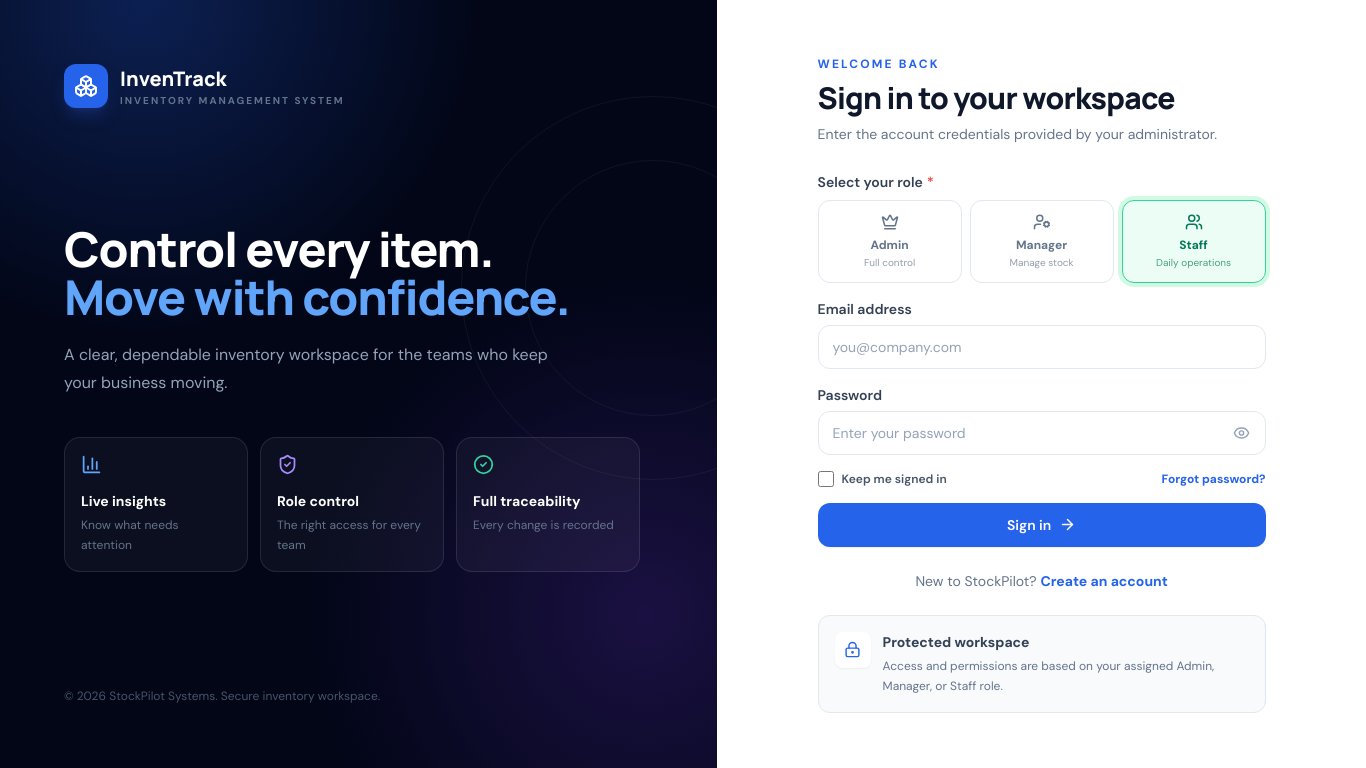
it: StockPilot UI workflows › logs in as Admin, navigates to products, and searches by SKU
expect the heading "Sign in to your workspace" is shown: met, box [818,76,1175,118]
Click the button "Admin Full control" at x=890, y=241, box [818,200,962,282]
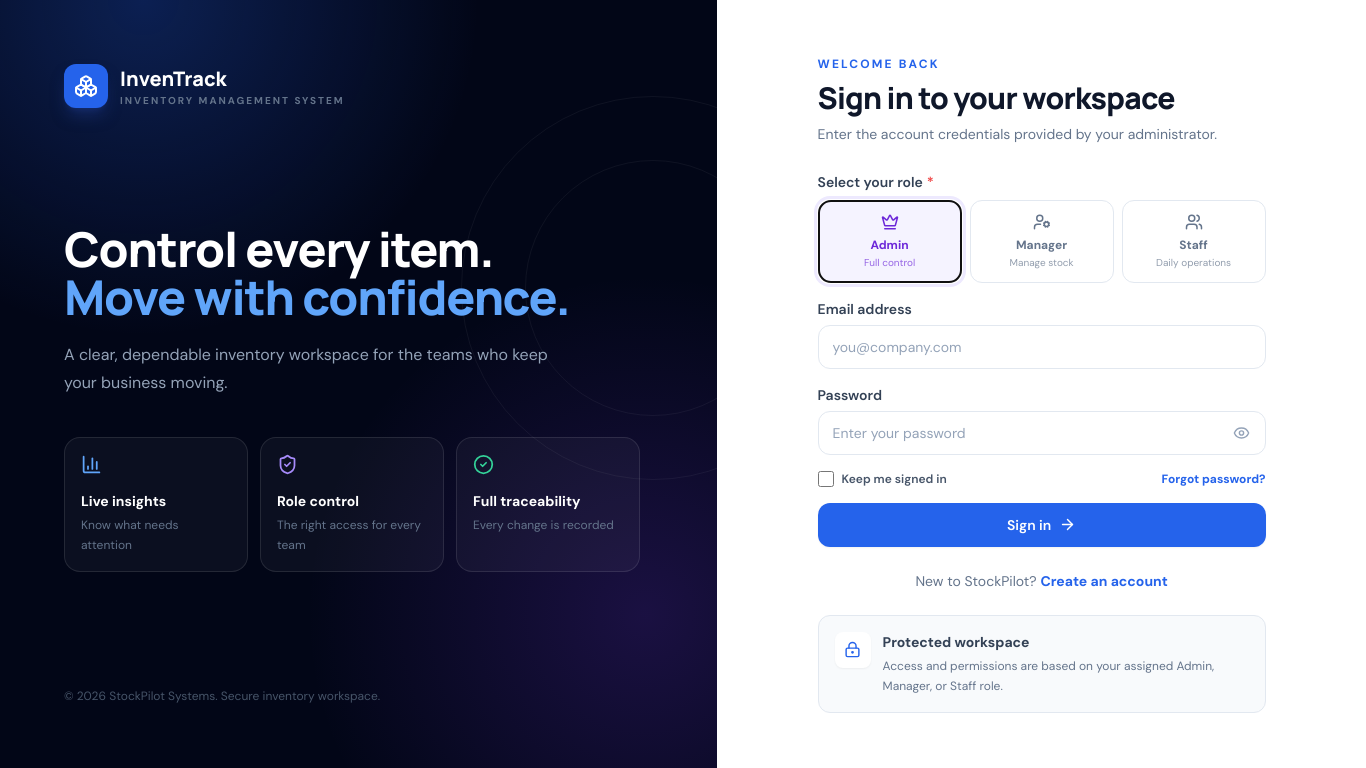
Type "admin@ims.io" into the field labelled "Email address" at x=1042, y=346, box [818,324,1266,368]
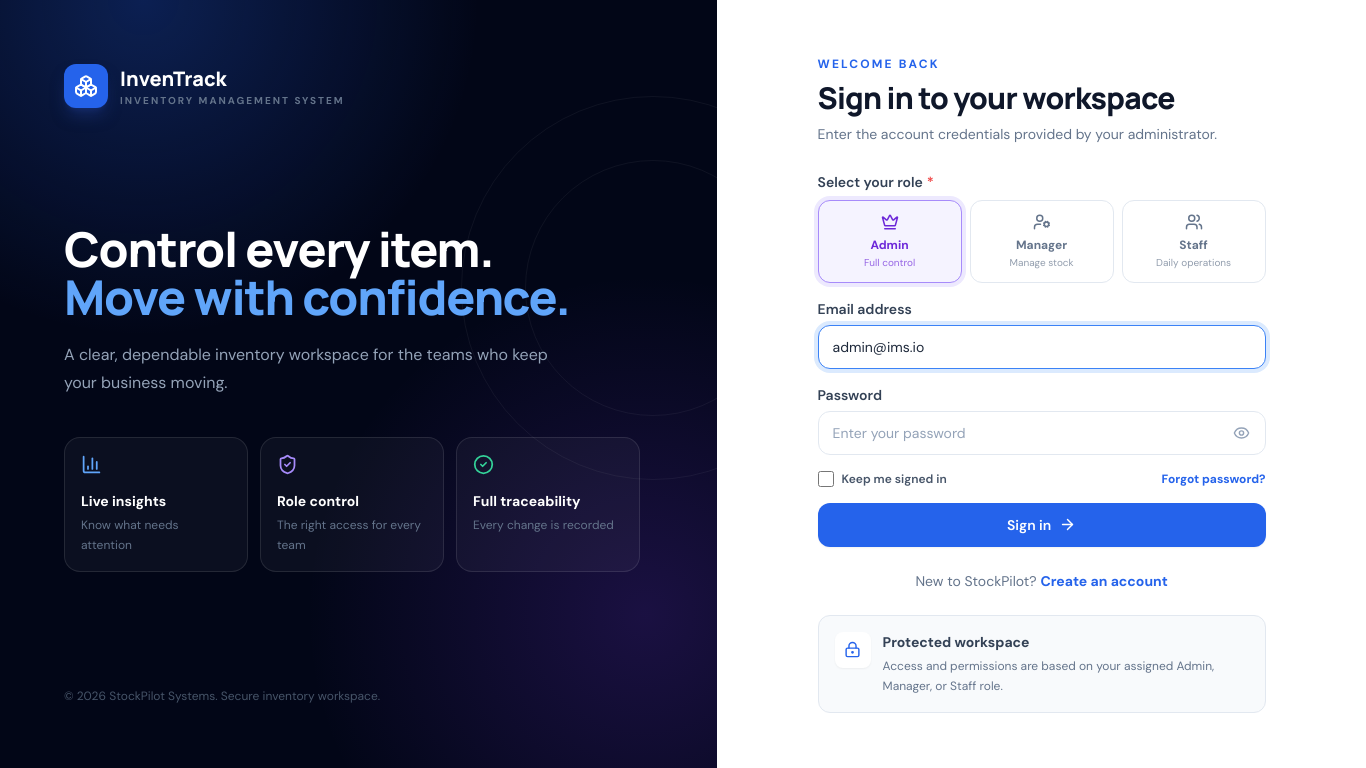
Type "admin123" into the password field labelled "Password" at x=1042, y=432, box [818,410,1266,454]
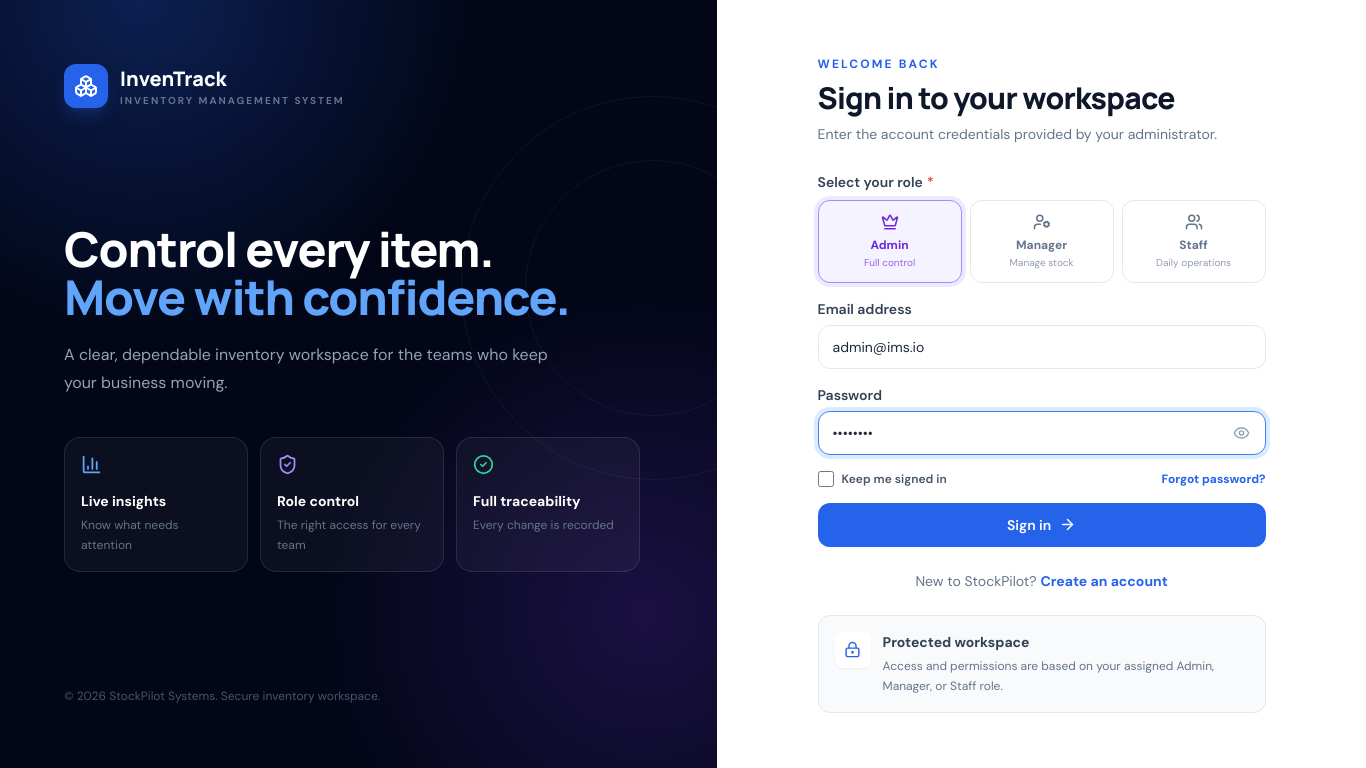
Click the button "Sign in" at x=1042, y=524, box [818,502,1266,546]
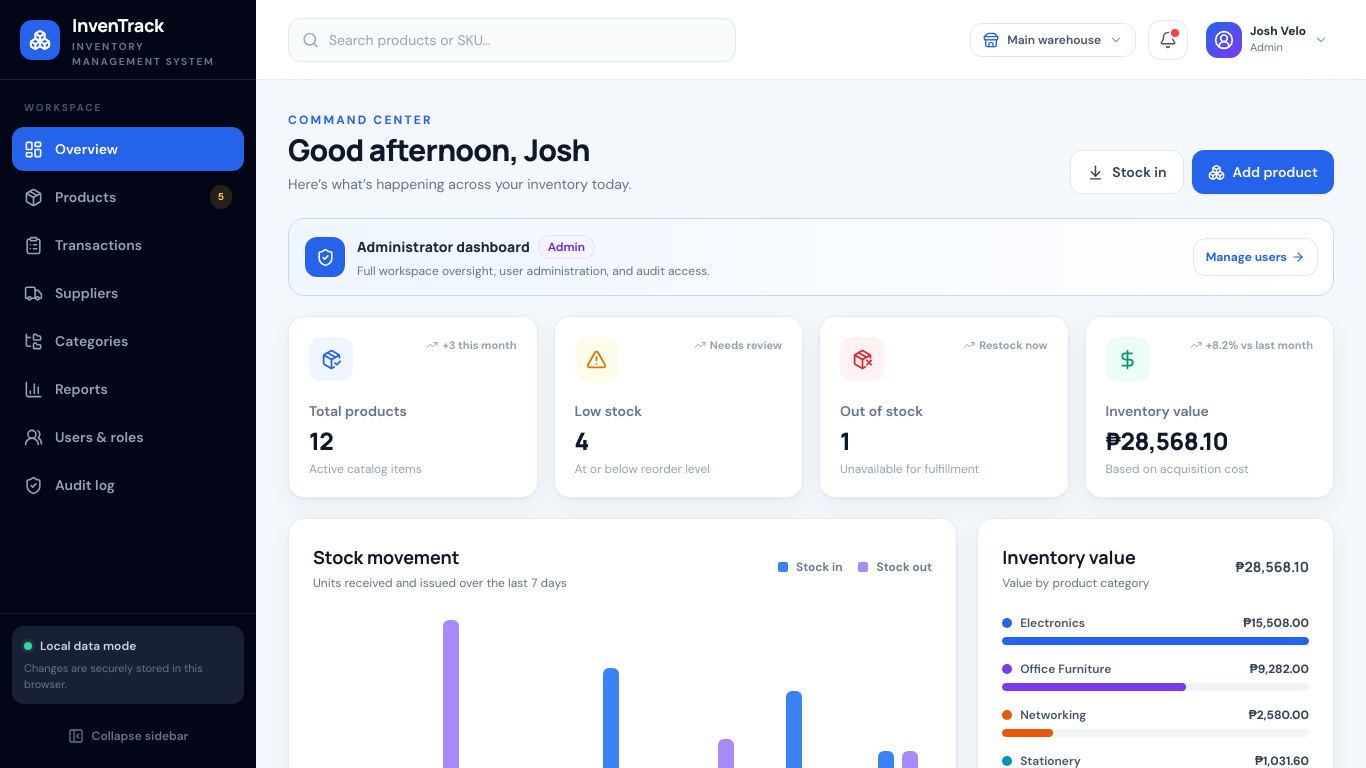
expect the heading "Good afternoon, Josh" is shown: met, box [288,132,631,168]
Click the link "Products 5" at x=86, y=197, box [24,185,232,209]
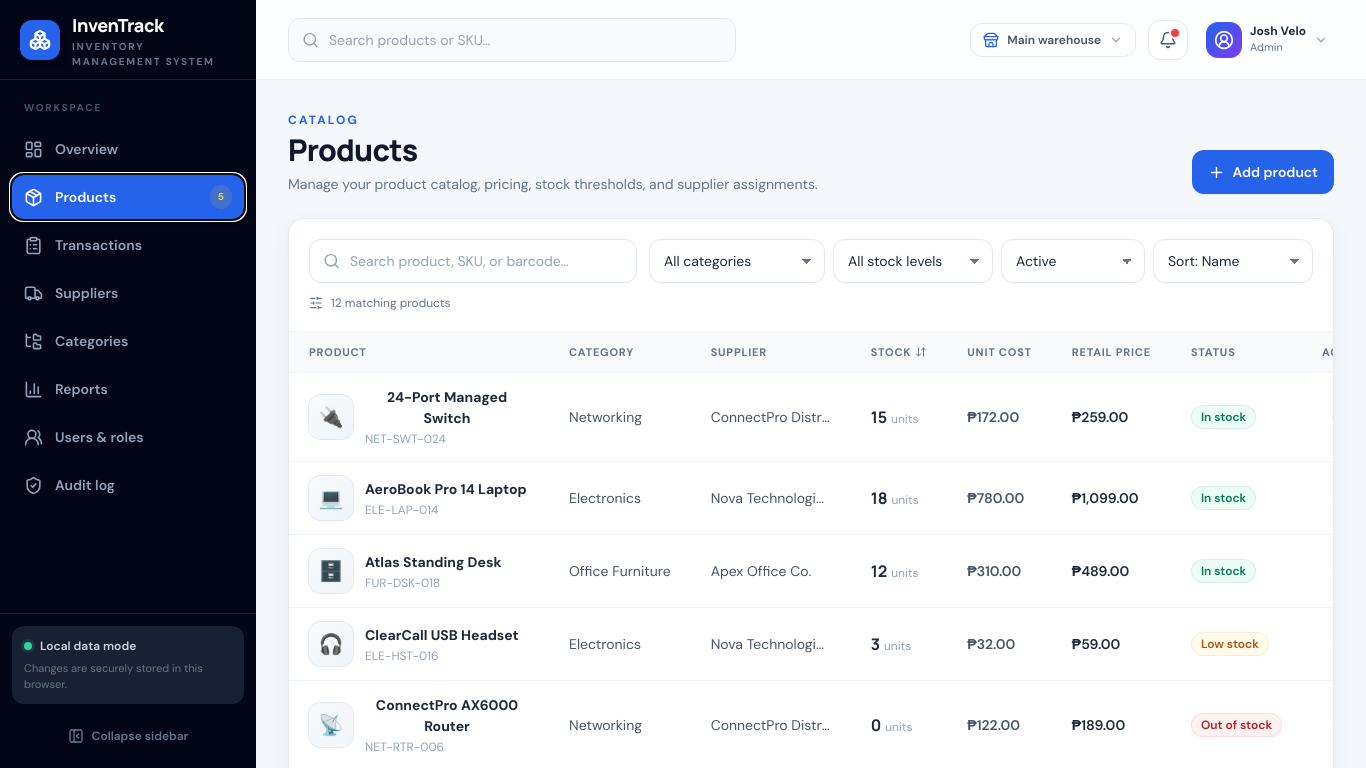
expect the heading "Products" is shown: met, box [288,129,417,170]
Type "ELE-MON-027" into the field labelled "Search product, SKU, or barcode…" at x=473, y=261, box [309,239,637,283]
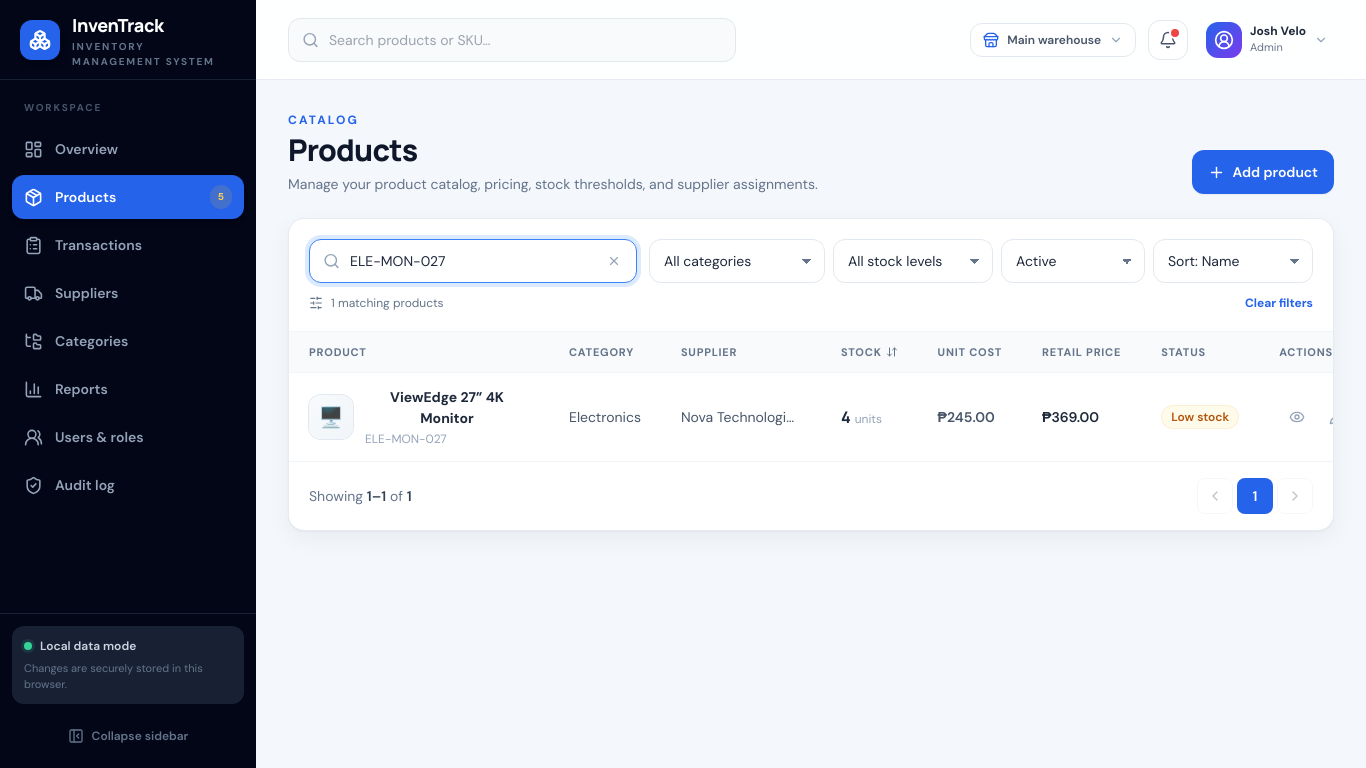
expect the button "ViewEdge 27” 4K Monitor" is shown: met, box [365,387,529,429]
